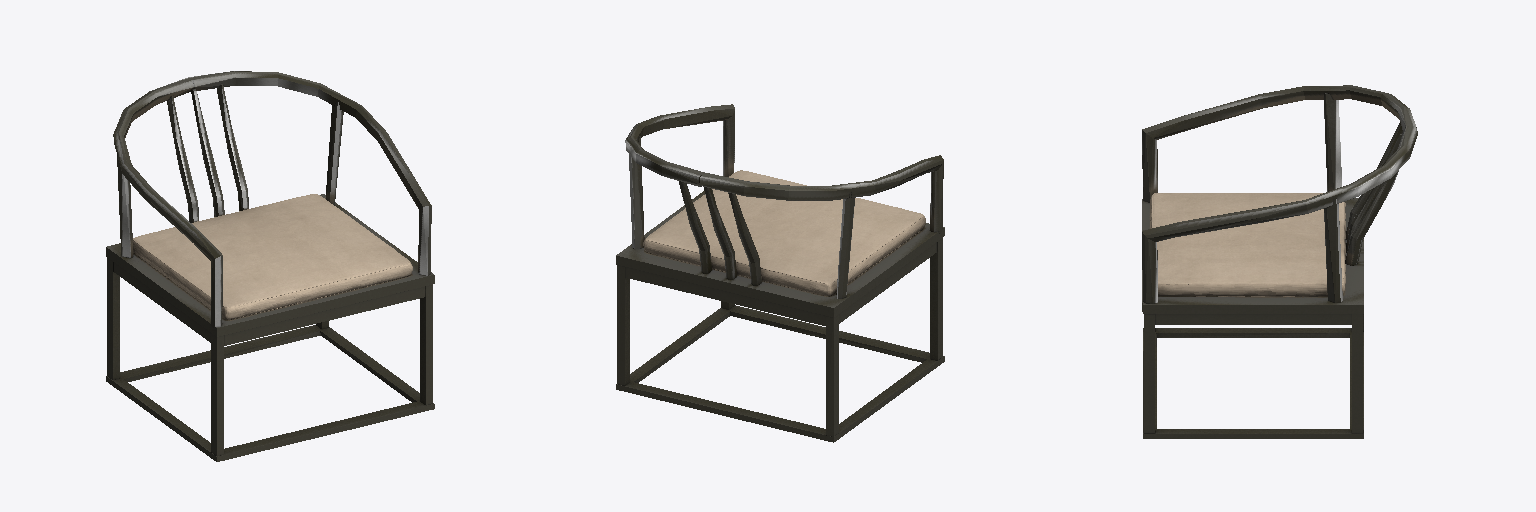
3 views of the same model, side by side, from view 1: azimuth 30°, elevation 25°; view 2: azimuth 150°, elevation 25°; view 3: azimuth 270°, elevation 25° (orthographic).
Parts seen in each view (by area): view 1: solid_001, solid_002; view 2: solid_001, solid_002; view 3: solid_001, solid_002.
Part boxes in pixels (x1,y1,x2,y2): solid_001: (106,71,434,461); solid_002: (133,194,412,319); solid_001: (616,104,944,442); solid_002: (643,170,925,295); solid_001: (1142,85,1417,438); solid_002: (1150,193,1345,296).
Size of the model in its own units: 1.32 by 1.34 by 1.29.
Materials: 1 (1 with a texture image).